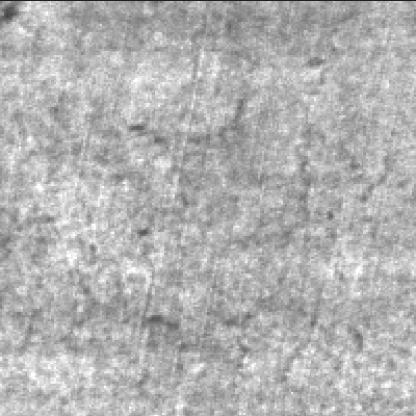crazing: (131, 102, 399, 258)
